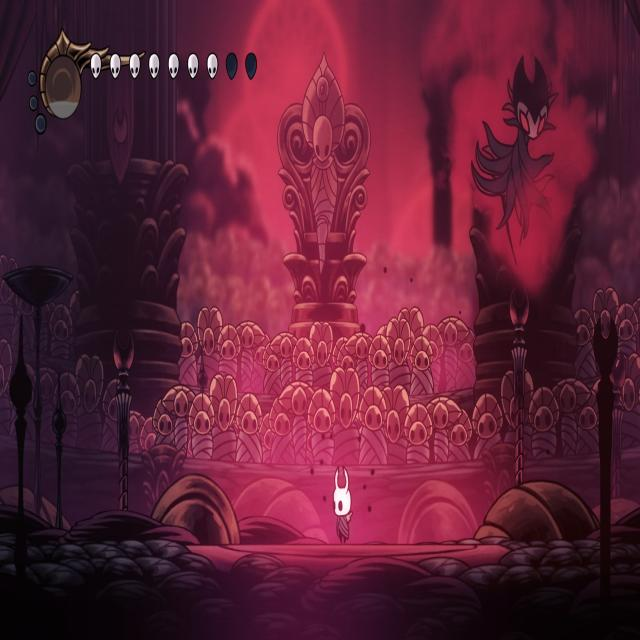Dive Dash: (472, 46, 562, 263)
Player: (332, 463, 356, 547)
